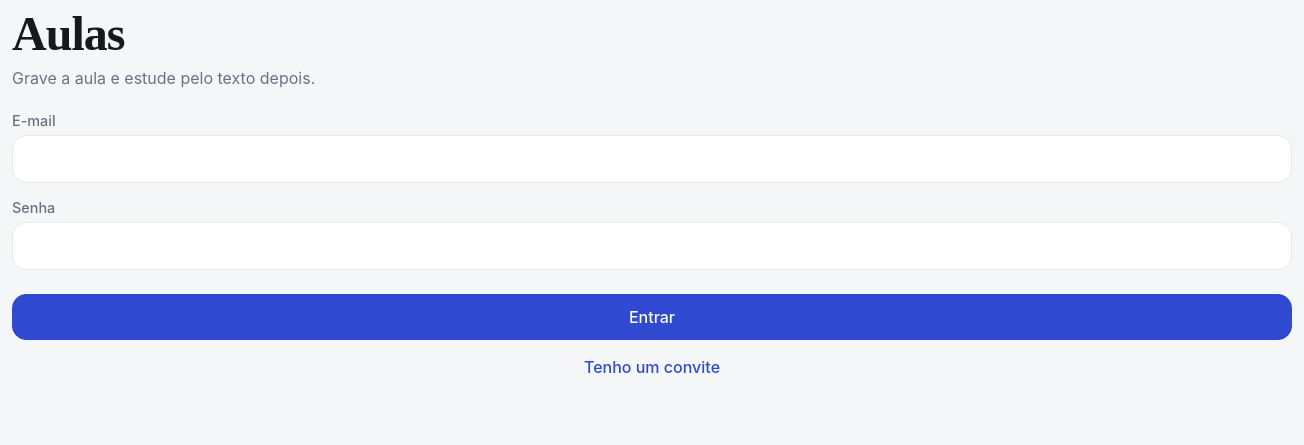
Test case: LoginScreen › avisa quando o e-mail ou a senha estão errados
Type "a@b.com" into the field labelled "E-mail" at coordinates (652, 159), box [12,135,1292,183]
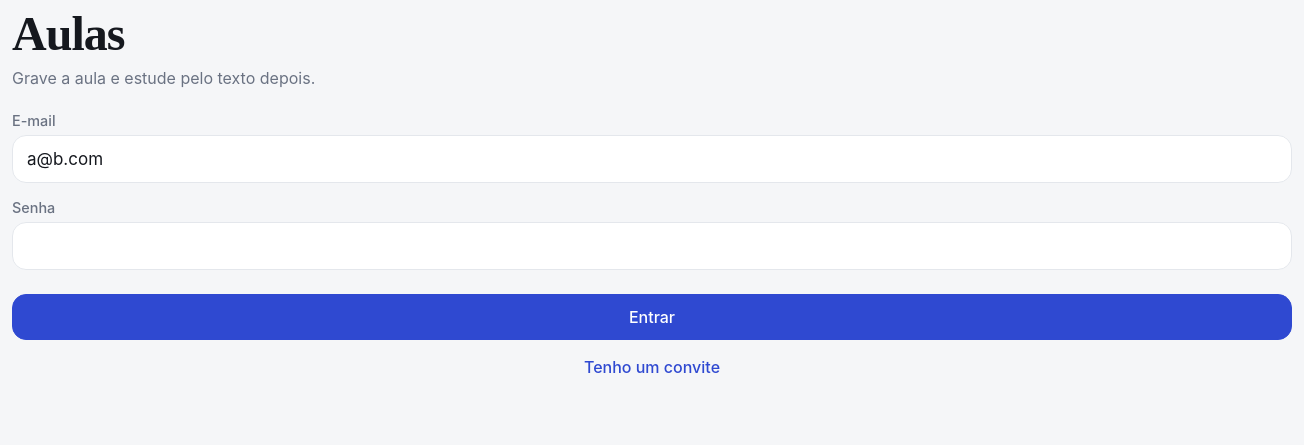
Type "errada" into the password field labelled "Senha" at coordinates (652, 246), box [12,222,1292,270]
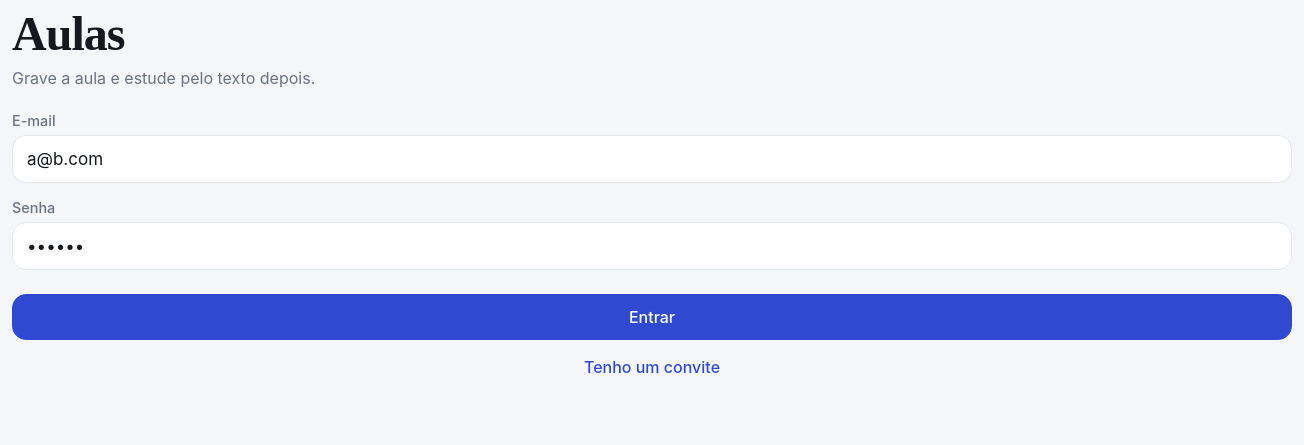
Click the button "Entrar" at coordinates (652, 317), box [12,294,1292,340]
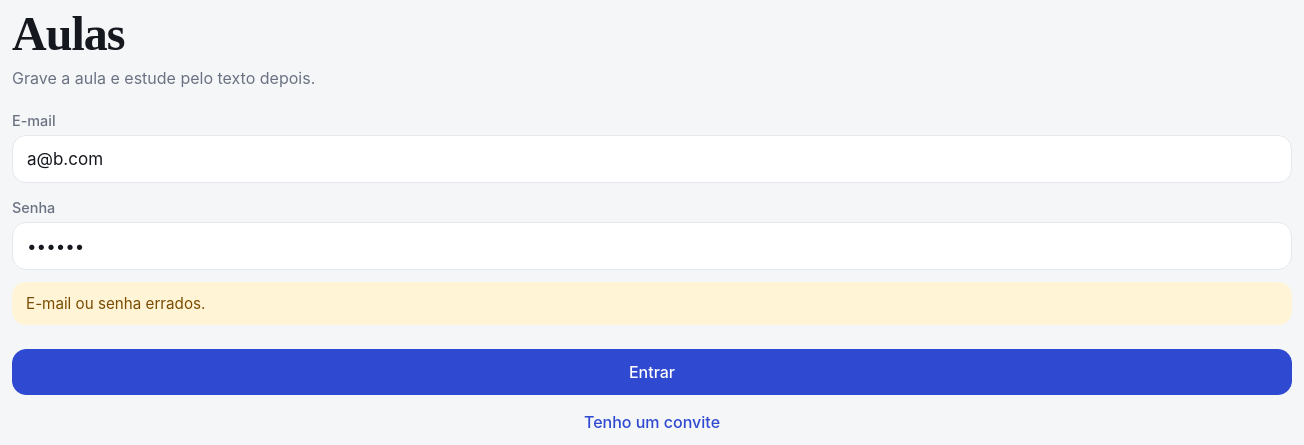
Expected: the text "E-mail ou senha errados." is shown, [12,282,1292,325]
